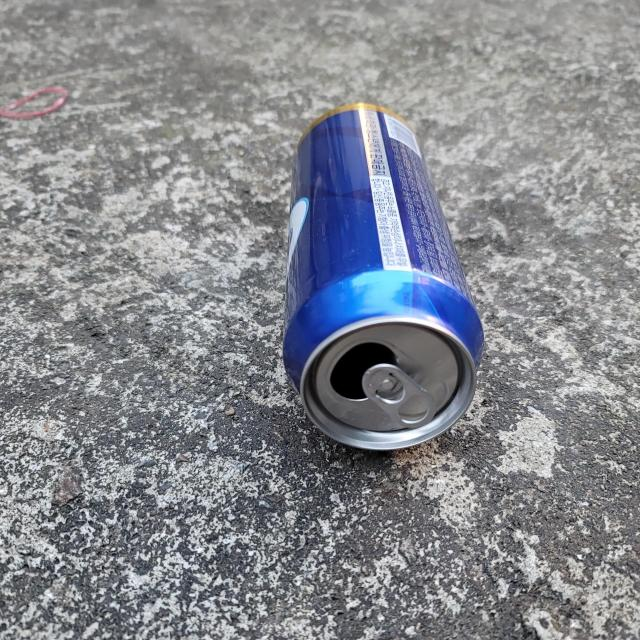can: (283, 103, 484, 450)
